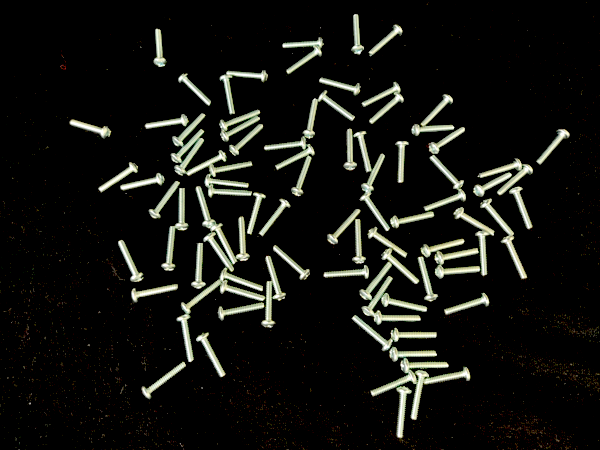longscrew: (142, 364, 187, 398), (196, 335, 232, 377), (498, 235, 532, 278), (273, 243, 310, 280), (100, 160, 139, 195), (353, 316, 389, 352), (370, 227, 410, 259), (427, 154, 464, 188), (357, 195, 391, 232), (371, 372, 418, 398), (259, 200, 292, 237), (362, 278, 395, 315), (184, 281, 224, 311), (536, 132, 571, 166), (383, 249, 418, 283), (151, 182, 183, 219), (327, 212, 364, 244), (188, 150, 226, 181), (425, 363, 474, 387), (117, 242, 146, 282), (501, 163, 535, 197), (481, 198, 513, 234), (430, 124, 468, 154), (455, 208, 497, 235), (175, 76, 211, 107), (263, 256, 287, 302), (508, 189, 537, 226), (360, 156, 388, 194), (421, 94, 454, 126), (417, 256, 439, 304), (172, 129, 203, 163), (205, 234, 232, 273), (370, 93, 405, 123), (286, 45, 321, 75), (363, 264, 394, 297), (176, 139, 203, 176), (370, 27, 401, 59), (174, 113, 206, 144), (232, 122, 262, 155), (409, 373, 430, 420), (69, 118, 111, 141), (146, 111, 188, 134), (131, 281, 177, 302), (223, 114, 260, 140), (290, 155, 314, 195), (244, 194, 268, 234), (362, 82, 401, 106), (422, 235, 464, 257), (424, 191, 466, 213), (221, 270, 265, 291), (443, 295, 489, 315), (214, 225, 238, 263), (320, 92, 355, 118), (475, 171, 511, 196), (220, 283, 265, 303), (221, 106, 260, 129), (195, 187, 216, 229), (392, 206, 436, 226), (277, 145, 313, 169), (479, 159, 521, 179), (260, 283, 278, 329), (347, 10, 365, 56), (320, 75, 361, 95), (121, 171, 164, 190), (159, 227, 178, 270), (178, 316, 195, 363), (232, 216, 249, 263), (301, 95, 319, 139), (174, 188, 192, 232), (219, 304, 265, 321), (207, 186, 253, 203), (209, 160, 255, 177), (356, 131, 374, 174), (348, 219, 366, 262), (218, 75, 236, 118), (190, 244, 208, 287), (205, 175, 250, 192), (381, 295, 427, 311), (279, 35, 326, 50), (398, 387, 411, 440), (265, 137, 309, 152), (322, 265, 369, 279), (436, 248, 479, 263), (396, 141, 409, 186), (222, 70, 270, 82), (436, 267, 482, 279), (393, 348, 435, 361), (343, 129, 355, 174), (413, 123, 456, 135), (156, 26, 168, 68), (388, 330, 438, 340), (373, 314, 423, 324), (404, 360, 453, 370), (479, 230, 489, 279)
